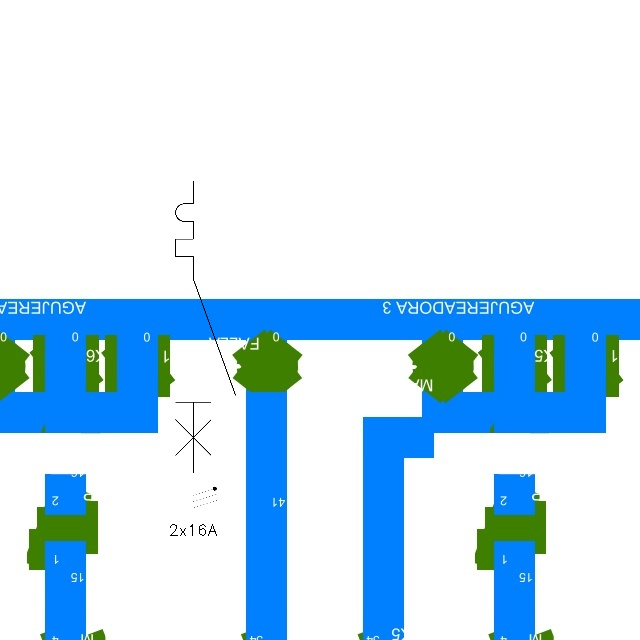interruptor_termomagnetico: (168, 174, 243, 481)
